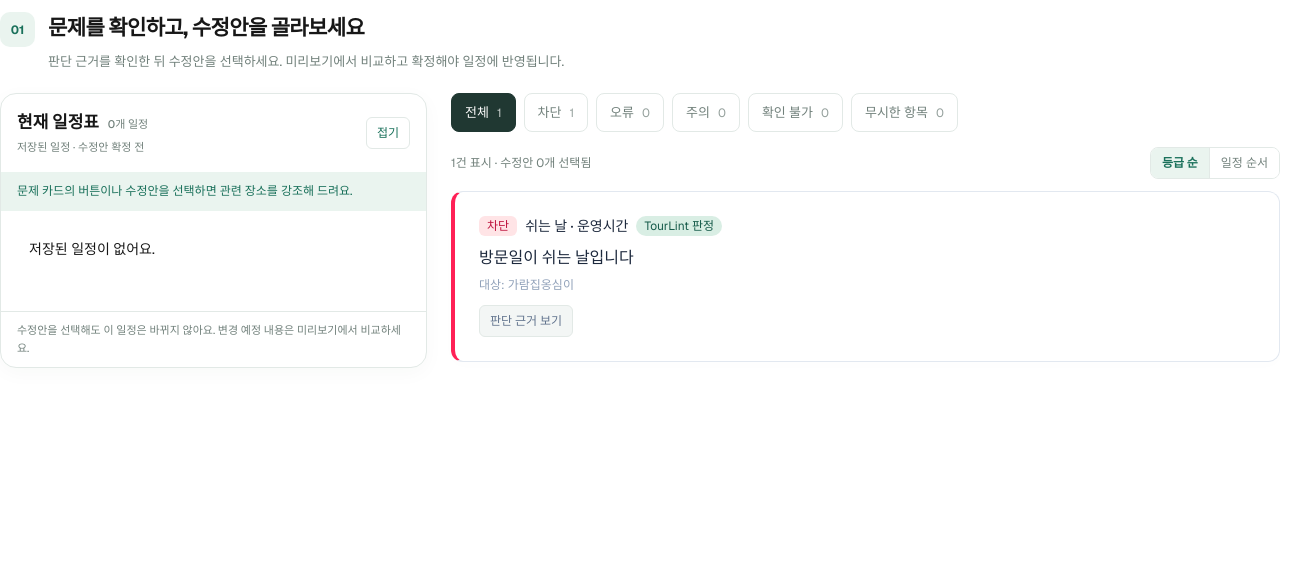
it: 판단 근거의 공사 원문 › 🔴 못 읽은 까닭은 사유코드 대신 조회 실패 / 정보 없음으로 적는다 (FR-CM-012 · UI-ST-005)
The image size is (1292, 583).
Click the button "판단 근거 보기": click(526, 321) left=479, top=305, right=573, bottom=337
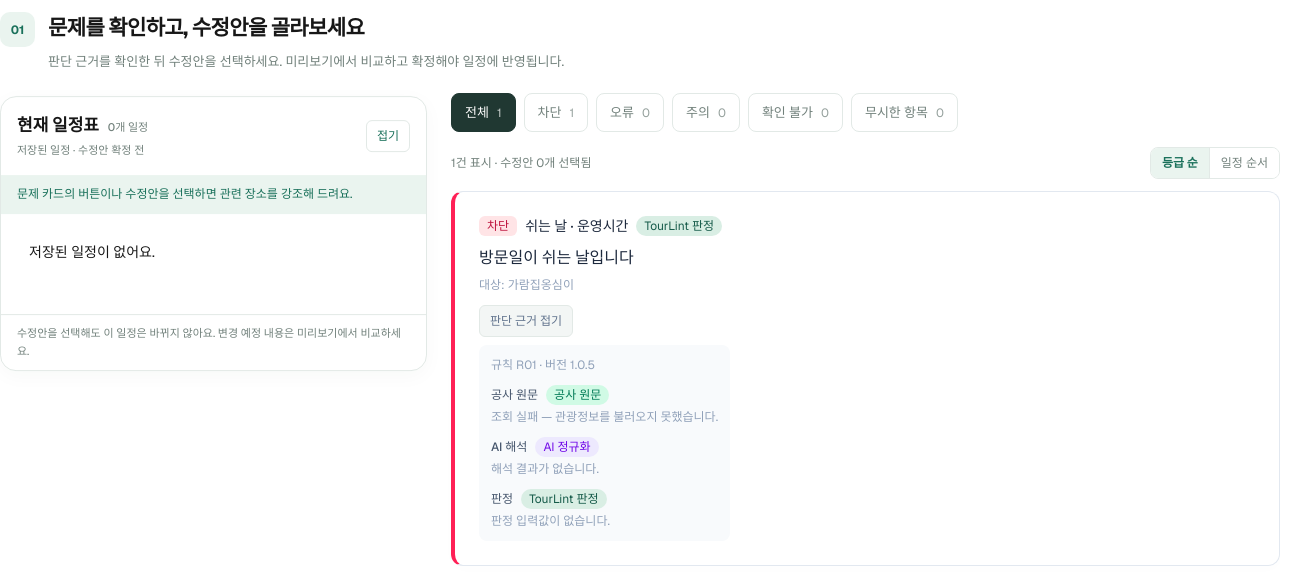
Result: the element showing "공사 원문 공사 원문 조회 실패 — 관광정보를 불러오지 못했습니다." is shown at left=491, top=385, right=718, bottom=425
